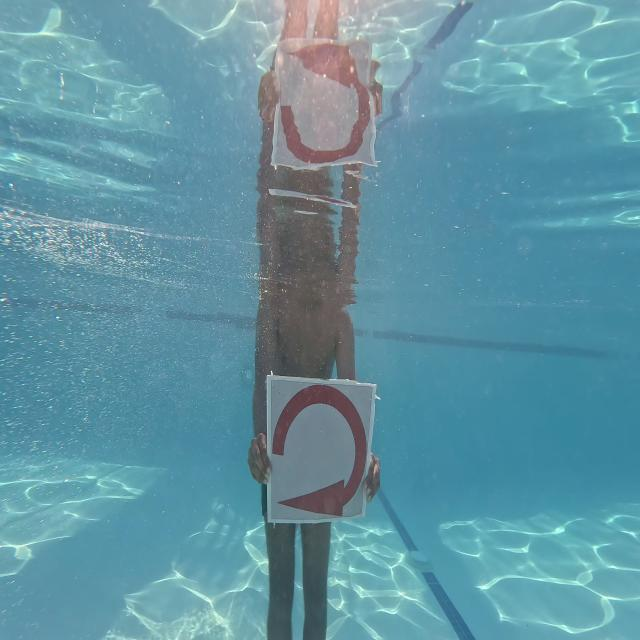red_side: (267, 375, 371, 523)
